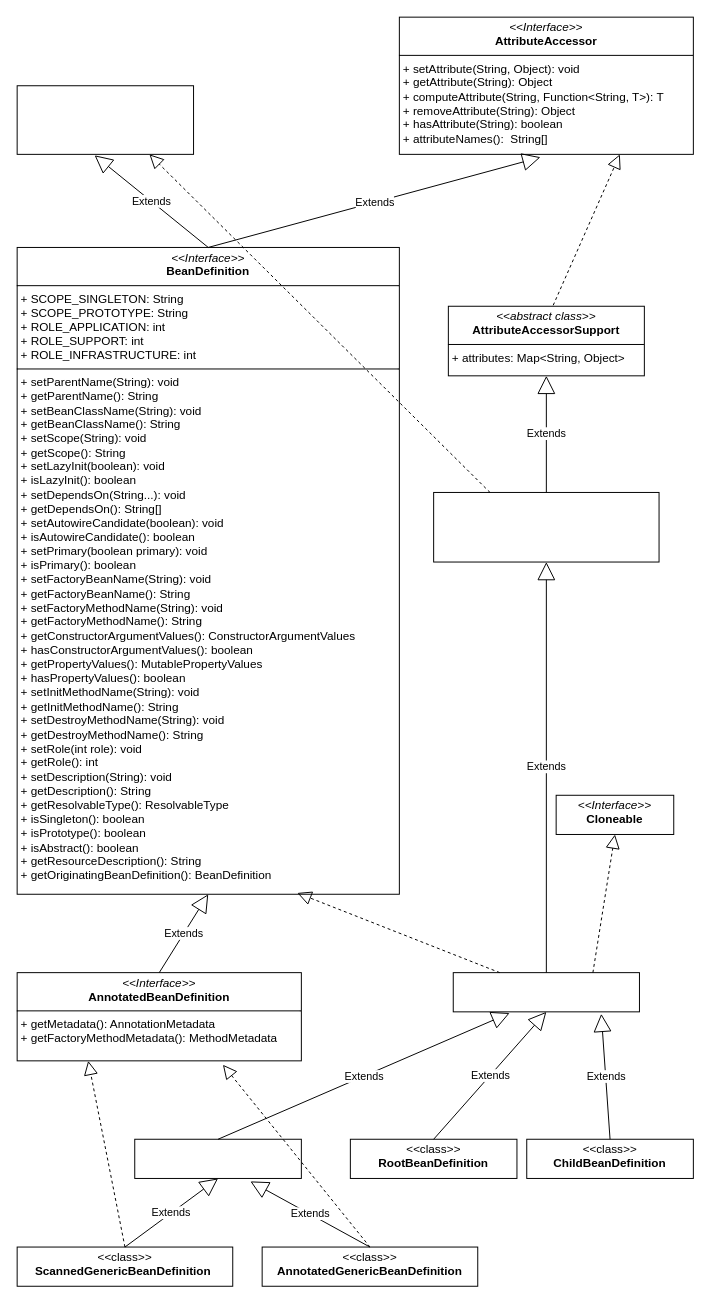
The diagram is 711 pixels wide and 1303 high, and some of its shapes have lost their labels. Each missing label, with the box of its shape:
<< abstract class >> AbstractBeanDefinition: (452, 972, 639, 1012)
<< class >> GenericBeanDefinition: (134, 1138, 301, 1178)
<<class>> BeanMetadataAttributeAccessor + source: Object: (433, 491, 659, 562)
<<Interface>> BeanMetadataElement + getSource(): Object: (16, 85, 194, 154)
